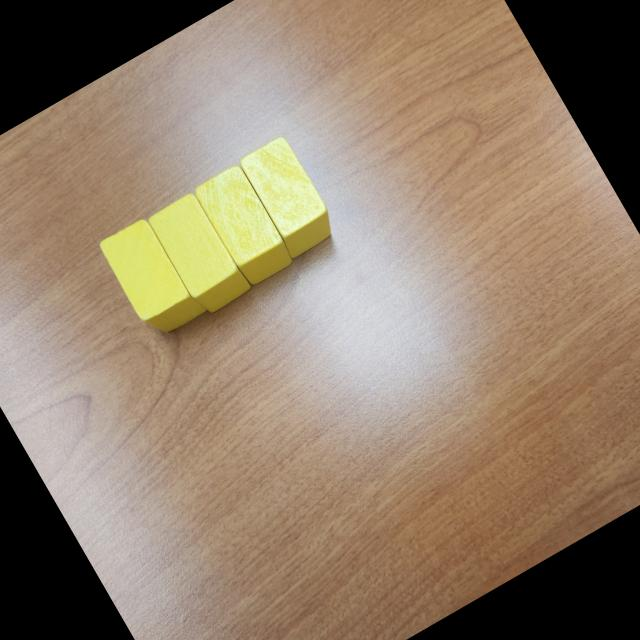yellow: (98, 213, 208, 343), (145, 188, 254, 318), (234, 133, 342, 260), (190, 162, 296, 290)
